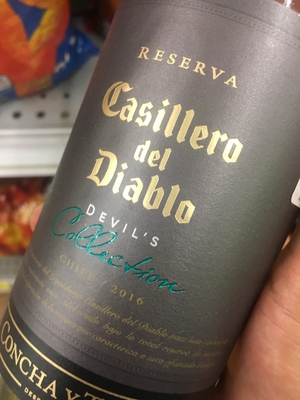casillero del diablo devils collection verde: (2, 2, 300, 398)
